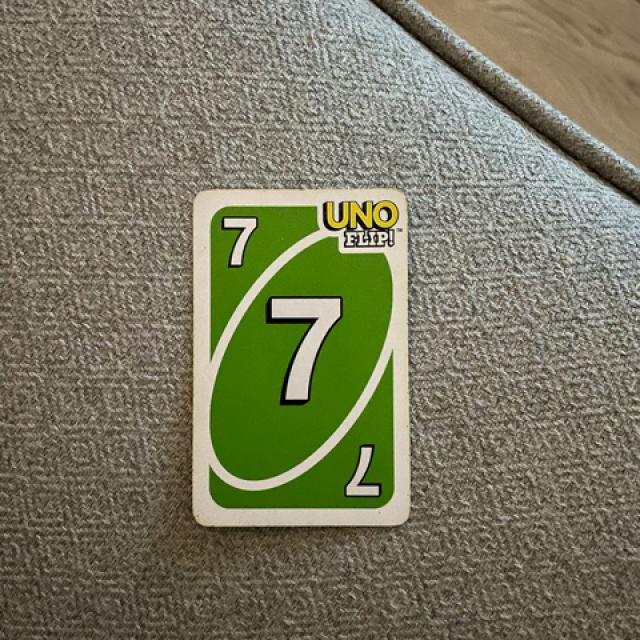lgreen-7: (206, 197, 276, 288)
